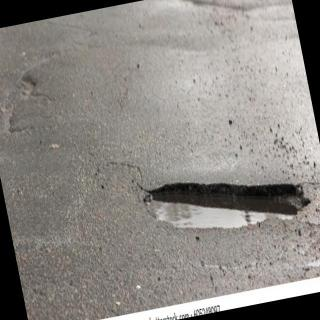pothole: (140, 184, 312, 229)
